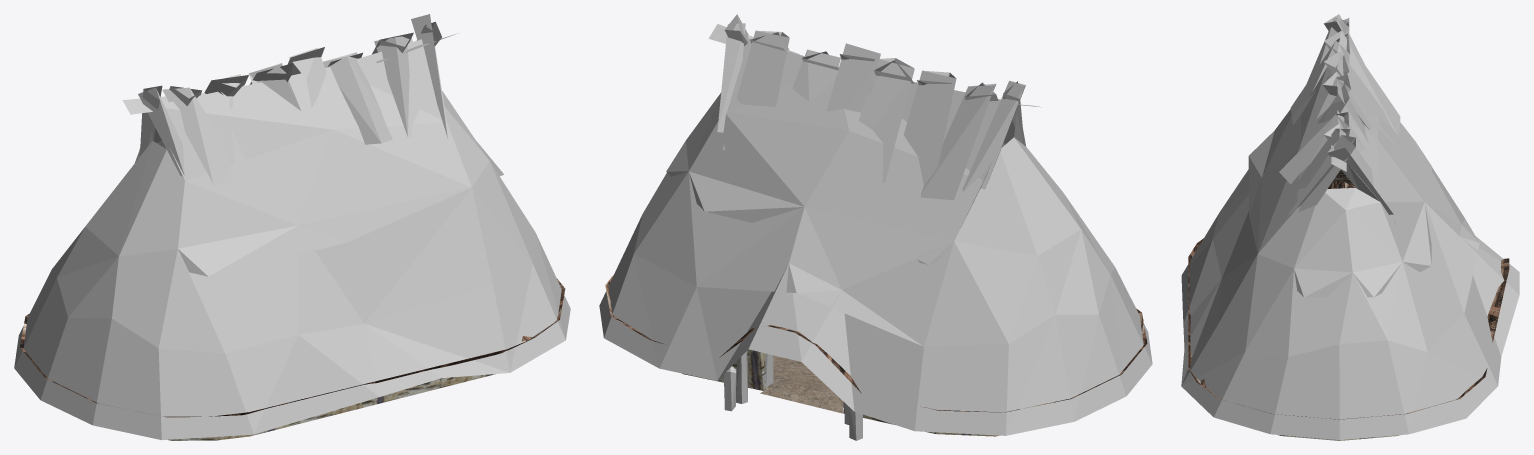
Rendered from Roundhut_3_LOD3.fbx.
3 views of the same model, side by side, from view 1: azimuth 30°, elevation 25°; view 2: azimuth 150°, elevation 25°; view 3: azimuth 270°, elevation 25° (orthographic). The views are drawn at different scales.
Parts seen in each view (by area): view 1: Alpha, Plaster_4, Roofing; view 2: Alpha, Ground, Wood, Roofing, Plaster_4; view 3: Alpha, Roofing.
Part boxes in pixels (box(x1,y1,x2,y2)): Alpha: box(14, 14, 570, 440); Plaster_4: box(168, 374, 495, 440); Roofing: box(20, 279, 565, 417); Alpha: box(599, 14, 1152, 435); Ground: box(760, 355, 843, 413); Wood: box(723, 351, 862, 440); Roofing: box(605, 275, 1147, 412); Plaster_4: box(682, 349, 998, 436); Alpha: box(1181, 14, 1519, 439); Roofing: box(1188, 180, 1509, 419).
Size of the model in its own units: 2222 by 1463 by 1342.
